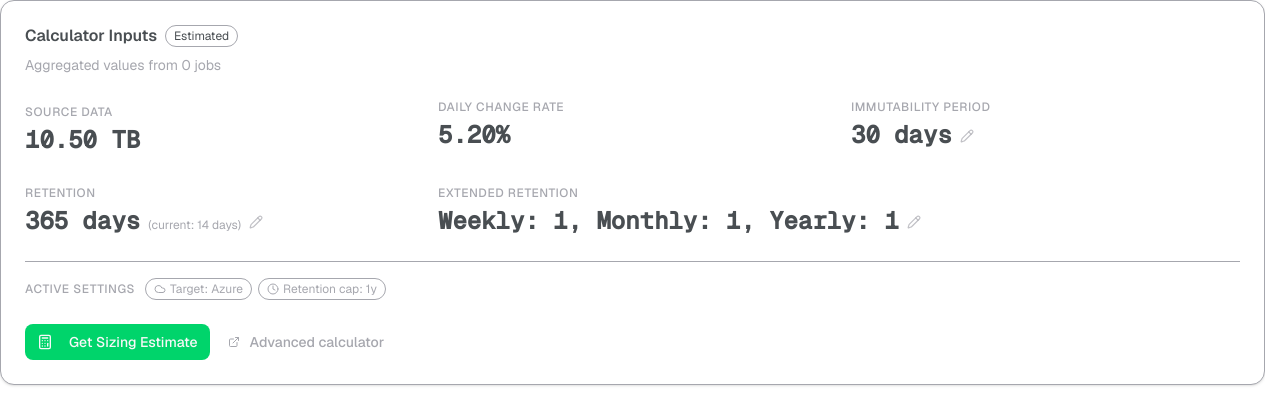
CalculatorInputs › cap retention clamping on inputs › seeds retention edit draft from lensed value (365) not raw value (400) when cap is active
Click the button named "edit retention": (256, 222) [249,215,263,229]
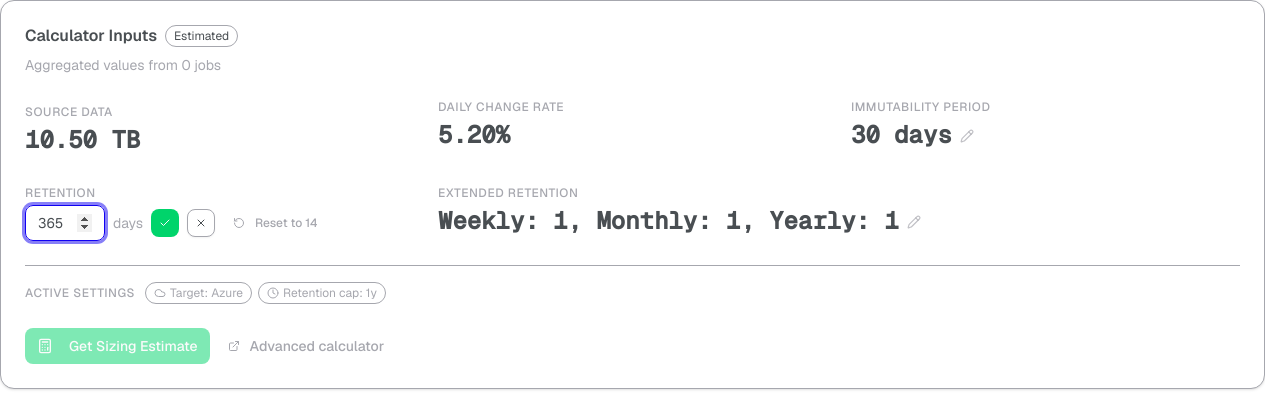
Now the number field holds "365", box [25,205,105,241]
